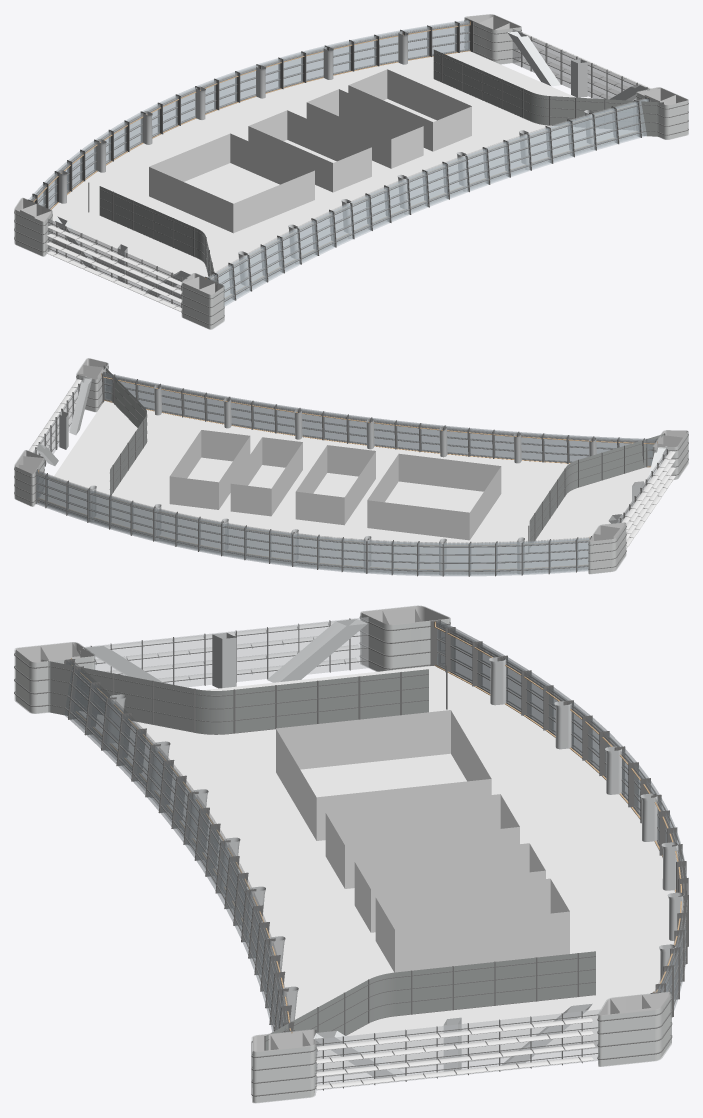
3 renders of one model, top to bottom at view 1: azimuth 30°, elevation 25°; view 2: azimuth 150°, elevation 25°; view 3: azimuth 270°, elevation 25°, orthographic. The views are drawn at different scales.
Visible parts, largest first — view 1: floor.044; view 2: floor.044; view 3: floor.044.
Boxes of the visible parts, x1,y1,x2,y2 form: floor.044: [14, 14, 688, 329]; floor.044: [14, 358, 688, 576]; floor.044: [14, 605, 688, 1103].
Bounding box in the file's own units: 82.03 × 4.38 × 52.32.
Materials: 14 (1 with a texture image).
